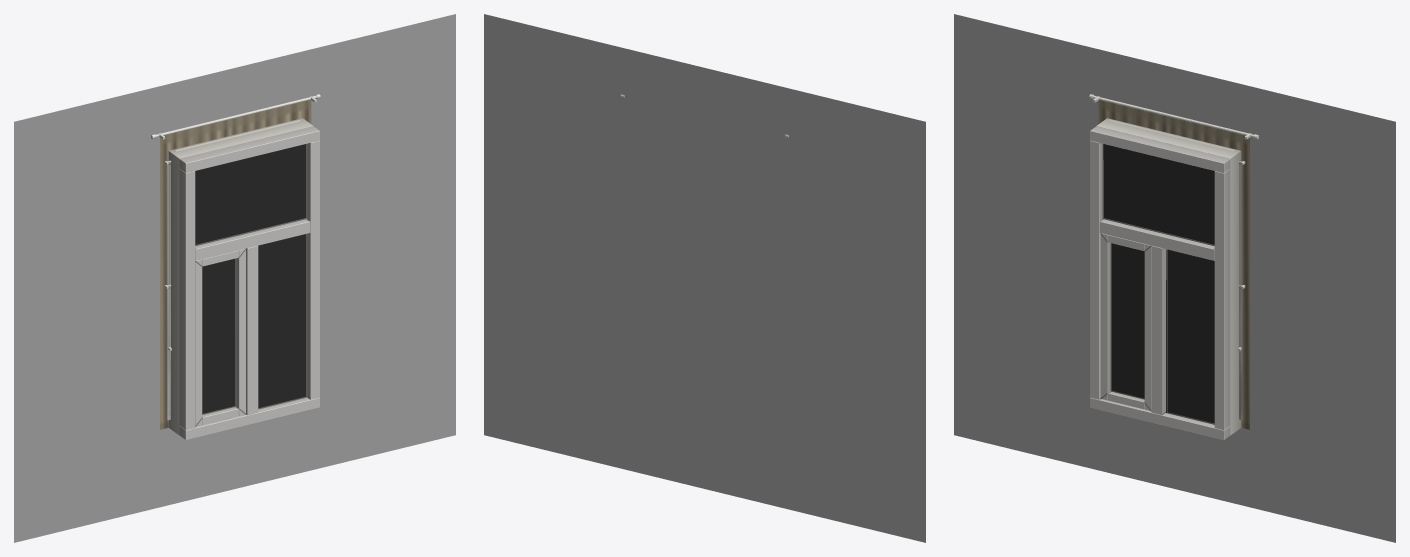
3 renders of one model, left to right at view 1: azimuth 30°, elevation 25°; view 2: azimuth 150°, elevation 25°; view 3: azimuth 330°, elevation 25°, orthographic.
Visible parts, largest first — view 1: room__card, glass__top, glass__fixed, glass__casement, curtain__C1_drawn, paint_joinery__frame_jamb_L, paint_joinery__frame_jamb_R, paint_joinery__reveal_jamb_L, paint_joinery__frame_head_rail, paint_joinery__mullion, paint_joinery__transom, paint_joinery__frame_sill_rail (+7 smaller); view 2: room__card; view 3: room__card, glass__top, glass__fixed, glass__casement, curtain__C1_drawn, paint_joinery__frame_jamb_R, paint_joinery__reveal_jamb_R, paint_joinery__frame_jamb_L, paint_joinery__mullion, paint_joinery__frame_head_rail, paint_joinery__transom, paint_joinery__frame_sill_rail (+7 smaller).
Boxes of the visible parts, x1=… form: room__card: x1=14, y1=14, x2=455, y2=542; glass__top: x1=195, y1=144, x2=305, y2=244; glass__fixed: x1=258, y1=234, x2=305, y2=408; glass__casement: x1=202, y1=259, x2=235, y2=413; curtain__C1_drawn: x1=160, y1=100, x2=311, y2=429; paint_joinery__frame_jamb_L: x1=179, y1=169, x2=195, y2=430; paint_joinery__frame_jamb_R: x1=307, y1=140, x2=319, y2=399; paint_joinery__reveal_jamb_L: x1=168, y1=150, x2=181, y2=435; paint_joinery__frame_head_rail: x1=179, y1=126, x2=319, y2=172; paint_joinery__mullion: x1=246, y1=246, x2=258, y2=415; paint_joinery__transom: x1=195, y1=219, x2=310, y2=260; paint_joinery__frame_sill_rail: x1=179, y1=397, x2=319, y2=439; room__card: x1=484, y1=14, x2=925, y2=542; room__card: x1=954, y1=14, x2=1395, y2=542; glass__top: x1=1103, y1=144, x2=1214, y2=244; glass__fixed: x1=1166, y1=249, x2=1214, y2=423; glass__casement: x1=1111, y1=243, x2=1144, y2=398; curtain__C1_drawn: x1=1098, y1=100, x2=1249, y2=429; paint_joinery__frame_jamb_R: x1=1214, y1=169, x2=1230, y2=430; paint_joinery__reveal_jamb_R: x1=1228, y1=150, x2=1241, y2=435; paint_joinery__frame_jamb_L: x1=1090, y1=140, x2=1102, y2=399; paint_joinery__mullion: x1=1151, y1=246, x2=1166, y2=415; paint_joinery__frame_head_rail: x1=1090, y1=126, x2=1230, y2=172; paint_joinery__transom: x1=1099, y1=219, x2=1214, y2=260; paint_joinery__frame_sill_rail: x1=1090, y1=397, x2=1230, y2=439.
Size of the model in its own units: 2.8 by 2.55 by 0.2015.
7 materials, 3 textured.
